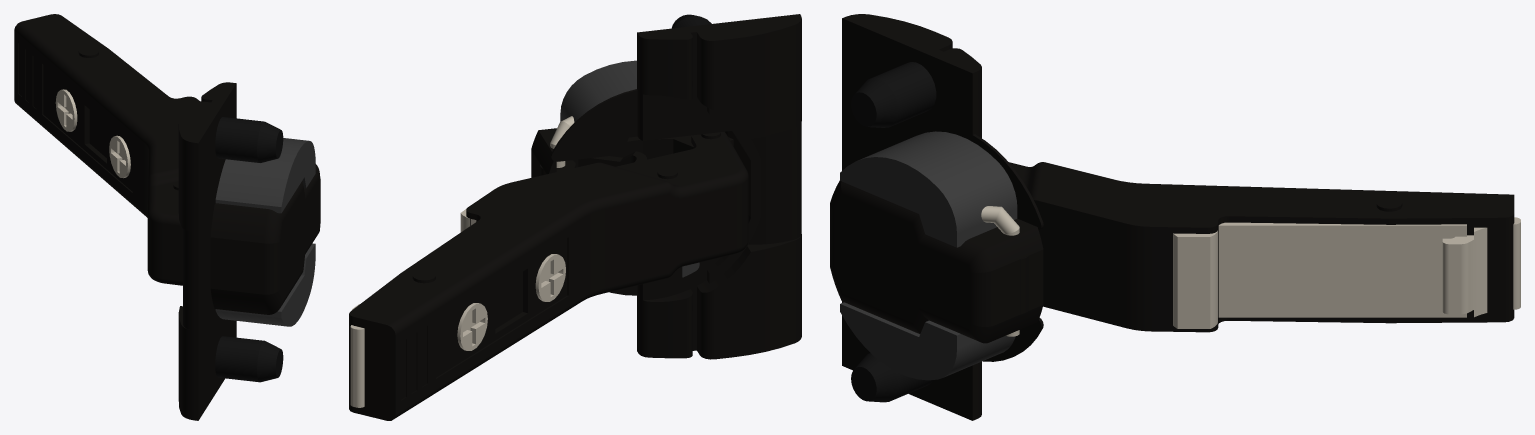
3 renders of one model, left to right at view 1: azimuth 30°, elevation 25°; view 2: azimuth 150°, elevation 25°; view 3: azimuth 270°, elevation 25°, orthographic. The views are drawn at different scales.
Visible parts, largest first — view 1: bau0016962400-1, bau0017011183-1; view 2: bau0017011183-1, bau0016962400-1, bau0019426112-1, bau0015167707-1, bau0015167363-1; view 3: bau0016962400-1, bau0017011183-1, bau0019426112-1.
Boxes of the visible parts, box(x1,y1,x2,y2) form: bau0016962400-1: box(178, 82, 320, 420); bau0017011183-1: box(14, 14, 199, 285); bau0017011183-1: box(349, 131, 748, 420); bau0016962400-1: box(531, 14, 801, 359); bau0019426112-1: box(350, 209, 476, 407); bau0015167707-1: box(611, 135, 733, 159); bau0015167363-1: box(540, 151, 646, 175); bau0016962400-1: box(830, 14, 1043, 420); bau0017011183-1: box(1008, 162, 1514, 332); bau0019426112-1: box(1173, 217, 1520, 328).
Bounding box in the file's own units: 39.39 × 57 × 103.
